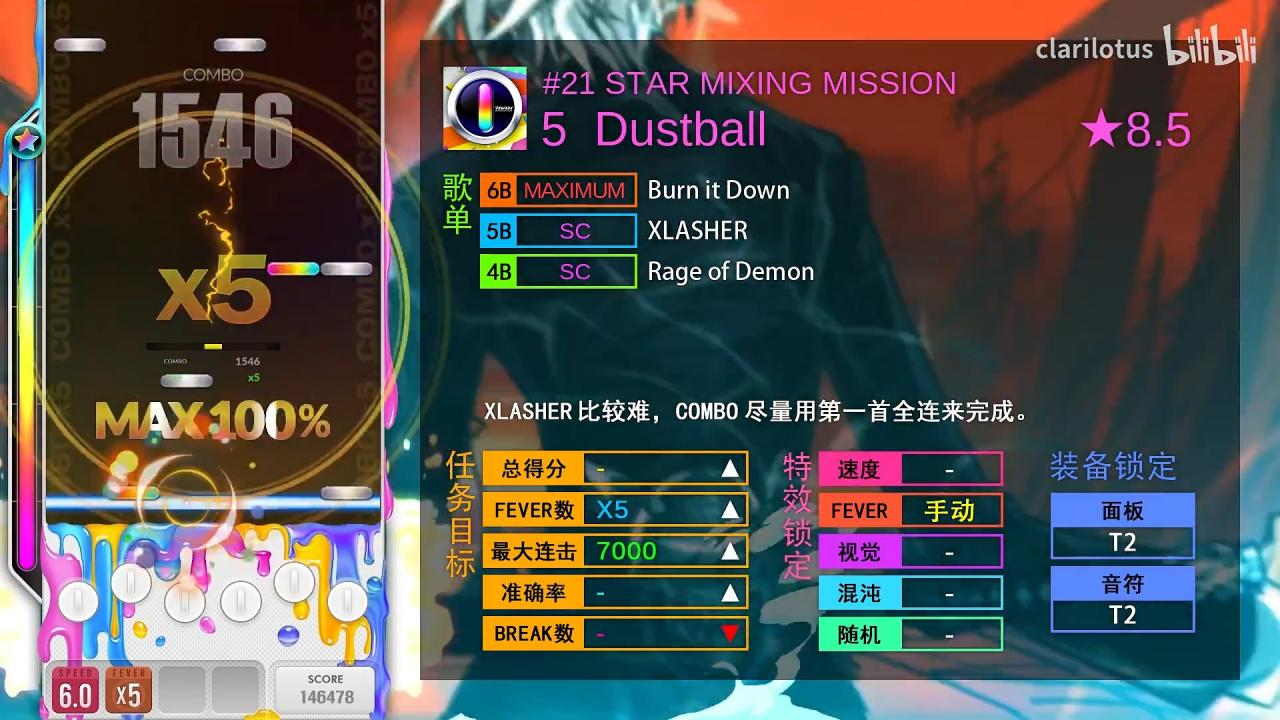note: (160, 373, 214, 389), (321, 486, 373, 502), (54, 38, 106, 53), (319, 262, 373, 276), (215, 38, 266, 52), (268, 262, 319, 276), (108, 486, 160, 499)
